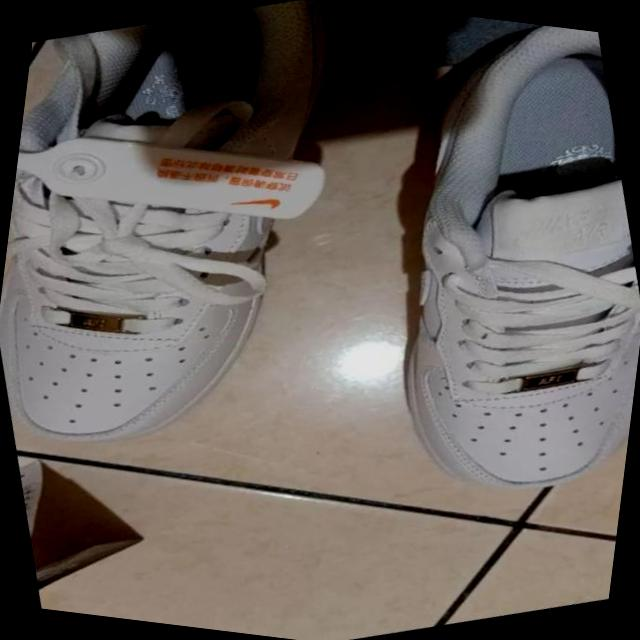nike_fake_airforce: (0, 0, 423, 498), (286, 1, 640, 534)
